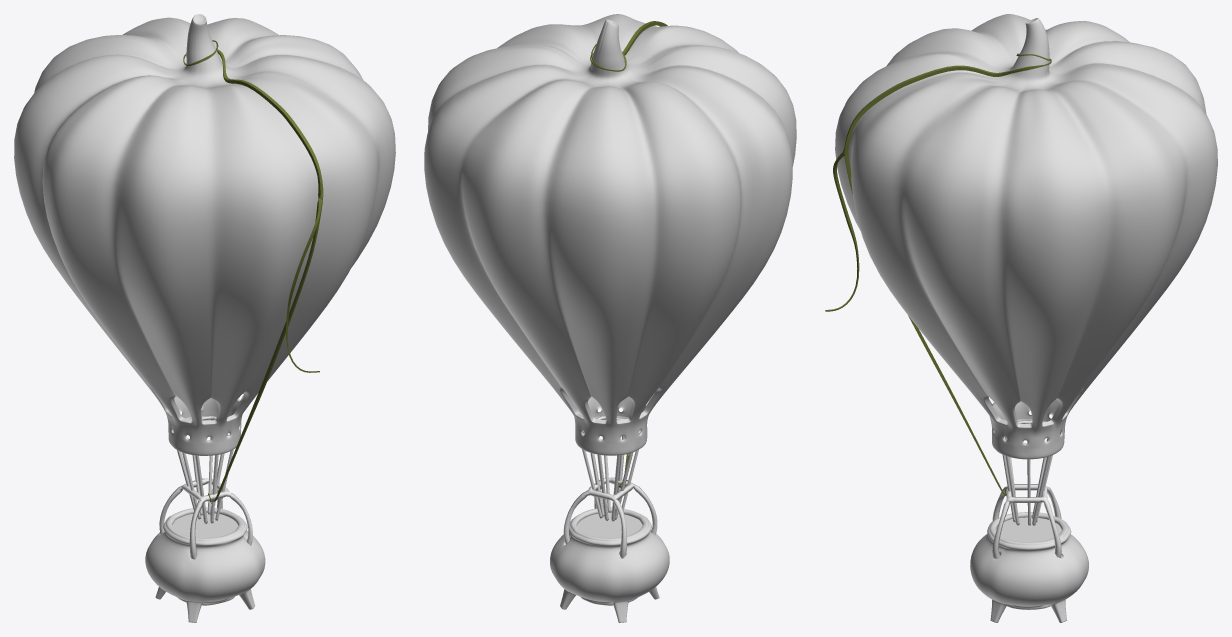
Rendered from pumpkin.fbx.
3 renders of one model, left to right at view 1: azimuth 30°, elevation 25°; view 2: azimuth 150°, elevation 25°; view 3: azimuth 270°, elevation 25°, orthographic.
Parts seen in each view (by area): view 1: balloon, Pot, branch, wires, handles, fluid; view 2: balloon, Pot, wires, handles, fluid, branch; view 3: balloon, Pot, branch, handles, wires, fluid.
Boxes of the visible parts, x1,y1,x2,y2 form: balloon: [14, 14, 395, 455]; Pot: [145, 507, 265, 622]; branch: [183, 40, 323, 502]; wires: [172, 416, 233, 523]; handles: [159, 478, 252, 559]; fluid: [172, 512, 238, 538]; balloon: [424, 14, 796, 455]; Pot: [550, 507, 669, 622]; wires: [582, 416, 640, 521]; handles: [563, 477, 657, 558]; fluid: [577, 512, 642, 538]; branch: [590, 21, 667, 487]; balloon: [835, 14, 1217, 459]; Pot: [970, 512, 1088, 622]; branch: [825, 53, 1051, 496]; handles: [992, 484, 1061, 558]; wires: [1002, 420, 1052, 525]; fluid: [996, 517, 1061, 542].
Size of the model in its own units: 364 by 619 by 375.
